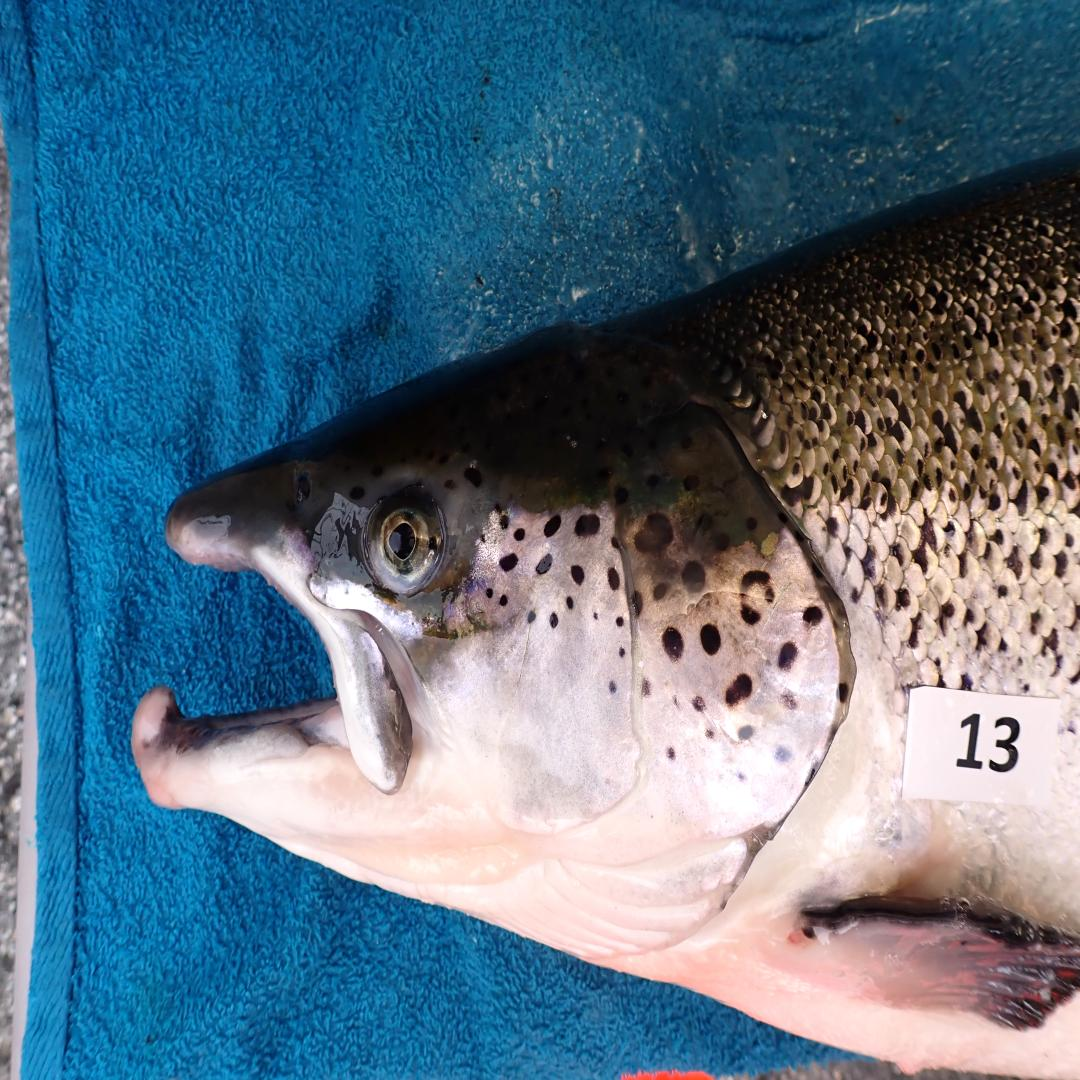roi: (415, 504, 851, 970)
